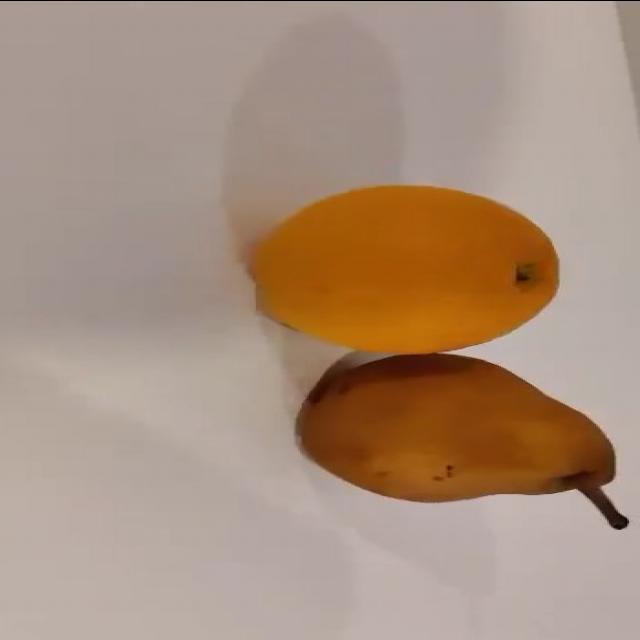Orange: (247, 185, 568, 354)
